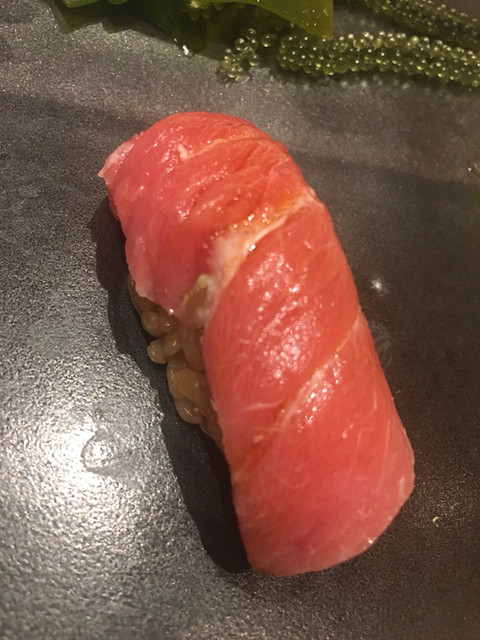medium_fatty_tuna: (107, 106, 419, 579)
